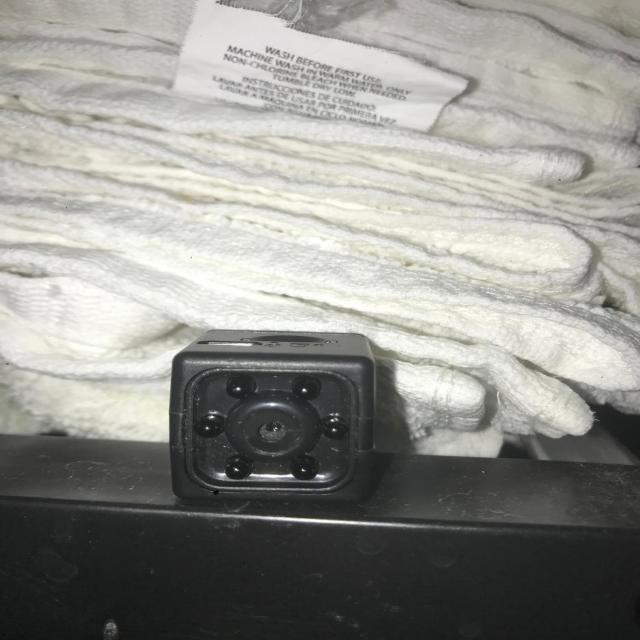hidden camera: (240, 405, 305, 456)
